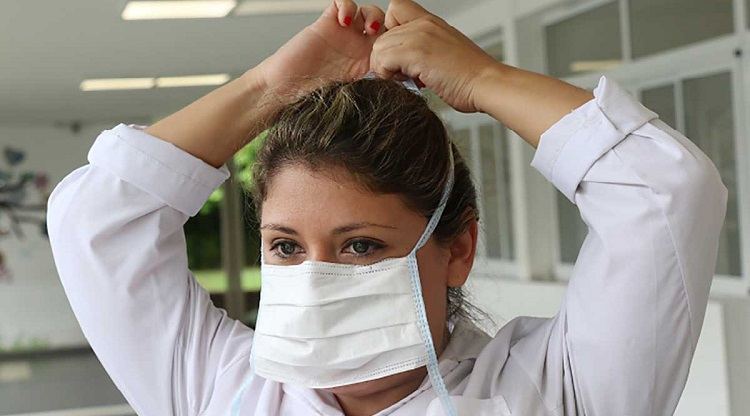barbijo: (234, 207, 466, 389)
